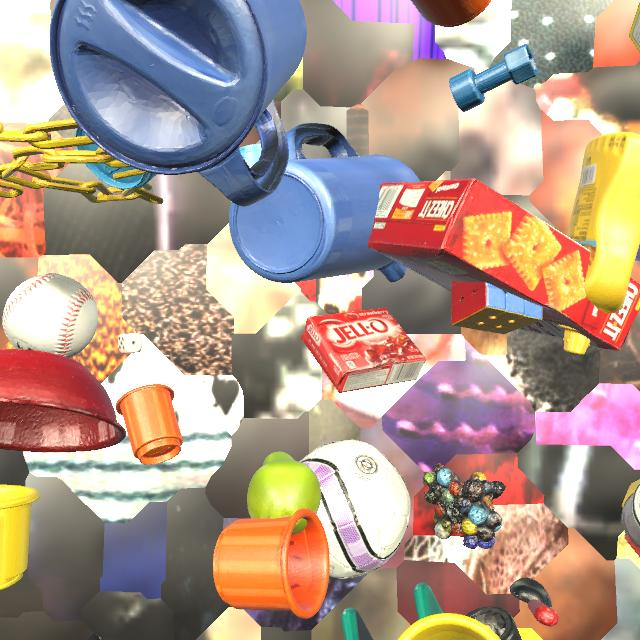ycb_003_cracker_box: (368, 178, 640, 351)
ycb_004_sugar_box: (629, 2, 640, 52)
ycb_005_tomato_soup_can: (621, 483, 640, 548)
ycb_006_mustard_bottle: (557, 132, 640, 355)
ycb_009_gelatin_box: (301, 308, 426, 393)
ycb_016_pear: (247, 452, 321, 535)
